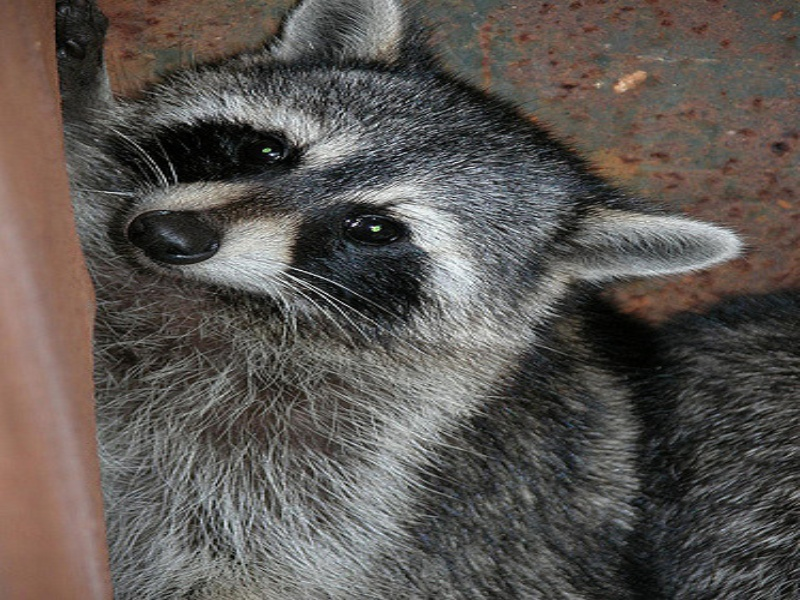raccoon: (58, 1, 800, 594)
